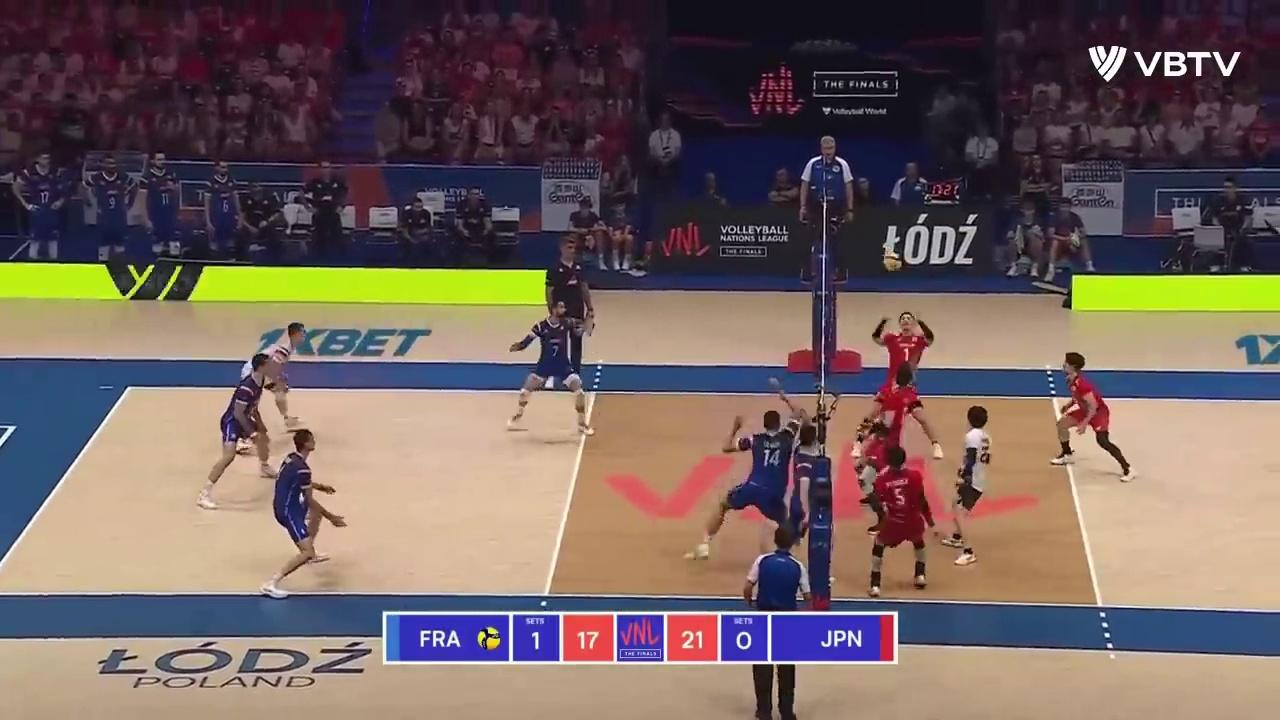ball: (880, 254, 902, 274)
